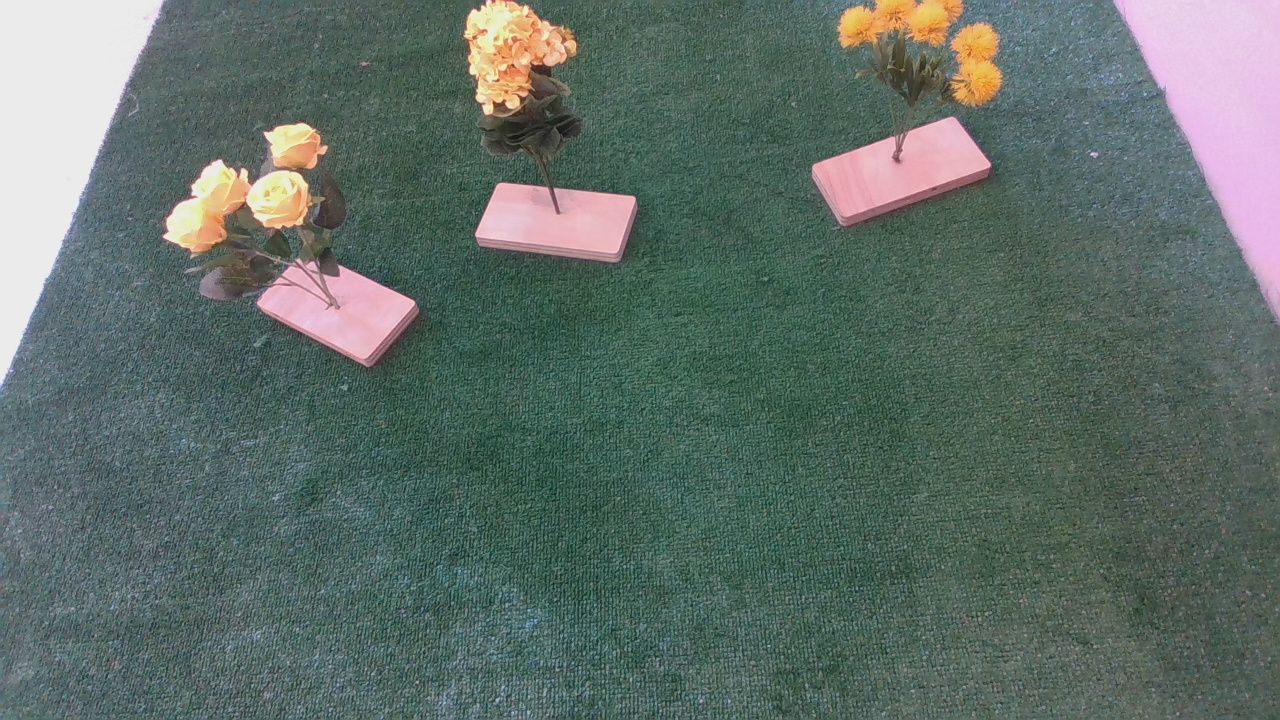geranium: (417, 1, 619, 174)
rose: (160, 123, 362, 312)
